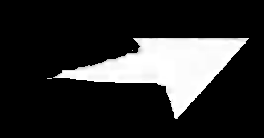Plane: (43, 31, 262, 125)
